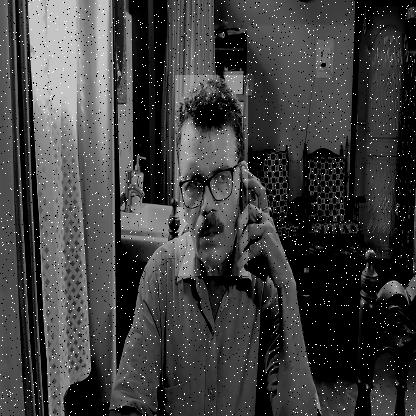Normal: (175, 75, 248, 276)
